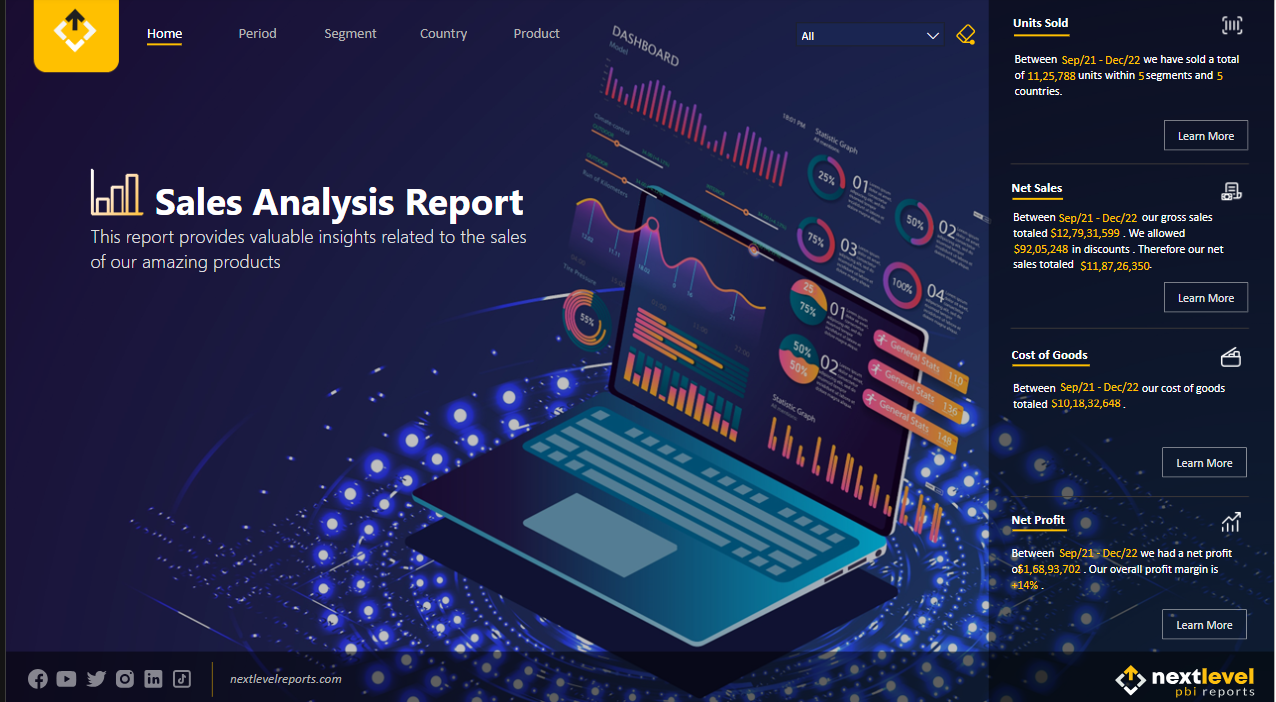

What the dashboard file says about the page in this screenshot:
{"tool":"powerbi","page":{"name":"Home","canvas":[1280,720],"ordinal":0},"visuals":[{"type":"actionButton","title":"Button_Icon_Units Sold","box":[1221,13,32,32],"z":0,"group":"g8"},{"type":"actionButton","title":"Button_Clear Managers","box":[952,26,36,25],"z":0,"group":"g6"},{"type":"textbox","box":[1012,49,240,65],"z":0,"group":"g9"},{"type":"textbox","box":[1011,209,240,80],"z":0,"group":"g10"},{"type":"textbox","title":"Text box_Main Info","box":[80,224,456,69],"z":0,"group":"g4"},{"type":"actionButton","title":"Button_NetSales","box":[1168,289.7,85,30],"z":0,"group":"g7"},{"type":"shape","title":"Shape_COGs","box":[1016,356.3,78,31],"z":0,"group":"g5"},{"type":"textbox","box":[1012,381,240,59],"z":0,"group":"g11"},{"type":"group","id":"g1","title":"Right Pane Net Profits","box":[1004,514,249,135],"z":0,"group":"g3"},{"type":"textbox","box":[1010,547,242,65],"z":0,"group":"g12"},{"type":"actionButton","title":"Button_NetProfit","box":[1168,619,85,30],"z":0,"group":"g1"},{"type":"group","id":"g2","title":"Footer","box":[21,670,1243,41],"z":0},{"type":"actionButton","title":"Button Logo","box":[1119,673,145,38],"z":0,"group":"g2"},{"type":"group","id":"g3","title":"Right Pane","box":[996,13,257,636],"z":500},{"type":"slicer","title":"Slicer_Managers","fields":{"Values":["DIM_MANAGERS.Manager Name"]},"box":[788,17,170,45],"z":1000,"group":"g6"},{"type":"card","fields":{"Values":["*Measures.M_Date Selection"]},"box":[1056,49,96,32],"z":1000,"group":"g9"},{"type":"actionButton","title":"Button_Units Sold","box":[1168,125,85,30],"z":1000,"group":"g8"},{"type":"group","id":"g4","title":"Main Area","box":[73,157,487,136],"z":1000},{"type":"textbox","title":"Text box_Title","box":[145,175,415,70],"z":1000,"group":"g4"},{"type":"actionButton","title":"Button_Icon_Net Sales","box":[1221,180,32,32],"z":1000,"group":"g7"},{"type":"card","fields":{"Values":["*Measures.M_Date Selection"]},"box":[1053,201,96,48],"z":1000,"group":"g10"},{"type":"group","id":"g5","title":"Right Pane COGs","box":[1010,347,243,137.3],"z":1000,"group":"g3"},{"type":"textbox","title":"Text box_COGs","box":[1010,347,100,30],"z":1000,"group":"g5"},{"type":"card","fields":{"Values":["*Measures.M_Date Selection"]},"box":[1056,381,96,29],"z":1000,"group":"g11"},{"type":"shape","title":"Shape_NetProfit","box":[1016,523,55,31],"z":1000,"group":"g1"},{"type":"card","fields":{"Values":["*Measures.M_Date Selection"]},"box":[1054.4,547,96.8,32],"z":1000,"group":"g12"},{"type":"actionButton","title":"Button_web _url","box":[215,670,135,40],"z":1000,"group":"g2"},{"type":"group","id":"g6","title":"Header","box":[46,11,942,54],"z":2000},{"type":"actionButton","title":"Button_Product","box":[491,17,90,40],"z":2000,"group":"g6"},{"type":"shape","title":"Shape_Units Sold","box":[1016,23,56,31],"z":2000,"group":"g8"},{"type":"card","fields":{"Values":["*Measures.M_Units Sold"]},"box":[1006,65,96,24],"z":2000,"group":"g9"},{"type":"actionButton","title":"Button_Main Icon","box":[73,157,80,80],"z":2000,"group":"g4"},{"type":"group","id":"g7","title":"Right Pane Net Sales","box":[996,180,257,139.7],"z":2000,"group":"g3"},{"type":"shape","title":"Shape_Net Sales","box":[1016,189.7,51,31],"z":2000,"group":"g7"},{"type":"card","fields":{"Values":["*Measures.M_Gross Sales"]},"box":[1038,225,100.3,30.6],"z":2000,"group":"g10"},{"type":"actionButton","title":"Button_Icon_COGs","box":[1221,347,32,32],"z":2000,"group":"g5"},{"type":"card","fields":{"Values":["*Measures.M_Cost Of Goods"]},"box":[1042,396.4,96,21.8],"z":2000,"group":"g11"},{"type":"actionButton","title":"Button_Icon_NetProfit","box":[1221,514,32,32],"z":2000,"group":"g1"},{"type":"card","fields":{"Values":["*Measures.M_Profit"]},"box":[1004,563,96.8,24],"z":2000,"group":"g12"},{"type":"shape","title":"Shape_line","box":[191,673,35,35],"z":2000,"group":"g2"},{"type":"group","id":"g8","title":"Right Pane_Units Sold","box":[1006,13,247,142],"z":3000,"group":"g3"},{"type":"textbox","title":"Text box_Units Sold","box":[1010,13,100,30],"z":3000,"group":"g8"},{"type":"actionButton","title":"Button_Country","box":[397,17,90,40],"z":3000,"group":"g6"},{"type":"card","fields":{"Values":["*Measures.M_# of Distinct Segments"]},"box":[1128,65,32,32],"z":3000,"group":"g9"},{"type":"textbox","title":"Text box_Net Sales","box":[1010,180,100,30],"z":3000,"group":"g7"},{"type":"card","fields":{"Values":["*Measures.M_Discounts"]},"box":[996,241,96,32],"z":3000,"group":"g10"},{"type":"actionButton","title":"Button_COGs","box":[1168,454.3,85,30],"z":3000,"group":"g5"},{"type":"textbox","title":"Text box_Net_Profit","box":[1010,514,100,30],"z":3000,"group":"g1"},{"type":"actionButton","title":"Button_tiktok","box":[167,679,22,22],"z":3000,"group":"g2"},{"type":"group","id":"g9","title":"Unit_Sold","box":[1006,49,246,65],"z":3500,"group":"g8"},{"type":"group","id":"g10","title":"Net_Sales","box":[996,201,255,88],"z":3500,"group":"g7"},{"type":"group","id":"g11","title":"COGs","box":[1012,381,240,59],"z":3500,"group":"g5"},{"type":"group","id":"g12","title":"Net_Profit","box":[1004,547,248,65],"z":3500,"group":"g1"},{"type":"actionButton","title":"Button_Segment","box":[303,17,90,40],"z":4000,"group":"g6"},{"type":"card","fields":{"Values":["*Measures.M_# of Distinct Countries"]},"box":[1212,65,24,32],"z":4000,"group":"g9"},{"type":"card","fields":{"Values":["*Measures.M_Net Sales"]},"box":[1068,258,100,30],"z":4000,"group":"g10"},{"type":"card","fields":{"Values":["*Measures.M_Profit Margin Formatted"]},"box":[1004,579,48,32],"z":4000,"group":"g12"},{"type":"actionButton","title":"Button_instagram","box":[108.6,679,22,22],"z":4000,"group":"g2"},{"type":"actionButton","title":"Button_Period","box":[209,17,90,40],"z":5000,"group":"g6"},{"type":"actionButton","title":"Button_linkdin","box":[137.8,679,22,22],"z":5000,"group":"g2"},{"type":"shape","title":"Home_Active","box":[143,34,35,31],"z":6000,"group":"g6"},{"type":"actionButton","title":"Button_twitter","box":[79.4,679,22,22],"z":6000,"group":"g2"},{"type":"actionButton","title":"Button_Home","box":[115,17,90,40],"z":7000,"group":"g6"},{"type":"actionButton","title":"Button_youtube","box":[50.2,679,22,22],"z":7000,"group":"g2"},{"type":"actionButton","title":"Button_Logo","box":[46,11,50,50],"z":8000,"group":"g6"},{"type":"actionButton","title":"Button_facebook","box":[21,679,22,22],"z":8000,"group":"g2"}]}

Visuals, with their boxes in screenshot pixels (x1, y1, x2, y2), scaled from the page's 1280x720 canvas onto the 1276x702 screenshot:
"Button_Icon_Units Sold" actionButton: [1217,13,1249,44]
"Button_Clear Managers" actionButton: [949,25,985,50]
textbox: [1009,48,1248,111]
textbox: [1008,204,1247,282]
"Text box_Main Info" textbox: [80,218,534,286]
"Button_NetSales" actionButton: [1164,282,1249,312]
"Shape_COGs" shape: [1013,347,1091,378]
textbox: [1009,371,1248,429]
"Right Pane Net Profits" group: [1001,501,1249,633]
textbox: [1007,533,1248,597]
"Button_NetProfit" actionButton: [1164,604,1249,633]
"Footer" group: [21,653,1260,693]
"Button Logo" actionButton: [1116,656,1260,693]
"Right Pane" group: [993,13,1249,633]
"Slicer_Managers" slicer: [786,17,955,60]
card - *Measures.M_Date Selection: [1053,48,1148,79]
"Button_Units Sold" actionButton: [1164,122,1249,151]
"Main Area" group: [73,153,558,286]
"Text box_Title" textbox: [145,171,558,239]
"Button_Icon_Net Sales" actionButton: [1217,176,1249,207]
card - *Measures.M_Date Selection: [1050,196,1145,243]
"Right Pane COGs" group: [1007,338,1249,472]
"Text box_COGs" textbox: [1007,338,1107,368]
card - *Measures.M_Date Selection: [1053,371,1148,400]
"Shape_NetProfit" shape: [1013,510,1068,540]
card - *Measures.M_Date Selection: [1051,533,1148,565]
"Button_web _url" actionButton: [214,653,349,692]
"Header" group: [46,11,985,63]
"Button_Product" actionButton: [489,17,579,56]
"Shape_Units Sold" shape: [1013,22,1069,53]
card - *Measures.M_Units Sold: [1003,63,1099,87]
"Button_Main Icon" actionButton: [73,153,153,231]
"Right Pane Net Sales" group: [993,176,1249,312]
"Shape_Net Sales" shape: [1013,185,1064,215]
card - *Measures.M_Gross Sales: [1035,219,1135,249]
"Button_Icon_COGs" actionButton: [1217,338,1249,370]
card - *Measures.M_Cost Of Goods: [1039,386,1134,408]
"Button_Icon_NetProfit" actionButton: [1217,501,1249,532]
card - *Measures.M_Profit: [1001,549,1097,572]
"Shape_line" shape: [190,656,225,690]
"Right Pane_Units Sold" group: [1003,13,1249,151]
"Text box_Units Sold" textbox: [1007,13,1107,42]
"Button_Country" actionButton: [396,17,485,56]
card - *Measures.M_# of Distinct Segments: [1124,63,1156,95]
"Text box_Net Sales" textbox: [1007,176,1107,205]
card - *Measures.M_Discounts: [993,235,1089,266]
"Button_COGs" actionButton: [1164,443,1249,472]
"Text box_Net_Profit" textbox: [1007,501,1107,530]
"Button_tiktok" actionButton: [166,662,188,683]
"Unit_Sold" group: [1003,48,1248,111]
"Net_Sales" group: [993,196,1247,282]
"COGs" group: [1009,371,1248,429]
"Net_Profit" group: [1001,533,1248,597]
"Button_Segment" actionButton: [302,17,392,56]
card - *Measures.M_# of Distinct Countries: [1208,63,1232,95]
card - *Measures.M_Net Sales: [1065,252,1164,281]
card - *Measures.M_Profit Margin Formatted: [1001,565,1049,596]
"Button_instagram" actionButton: [108,662,130,683]
"Button_Period" actionButton: [208,17,298,56]
"Button_linkdin" actionButton: [137,662,159,683]
"Home_Active" shape: [143,33,177,63]
"Button_twitter" actionButton: [79,662,101,683]
"Button_Home" actionButton: [115,17,204,56]
"Button_youtube" actionButton: [50,662,72,683]
"Button_Logo" actionButton: [46,11,96,59]
"Button_facebook" actionButton: [21,662,43,683]
